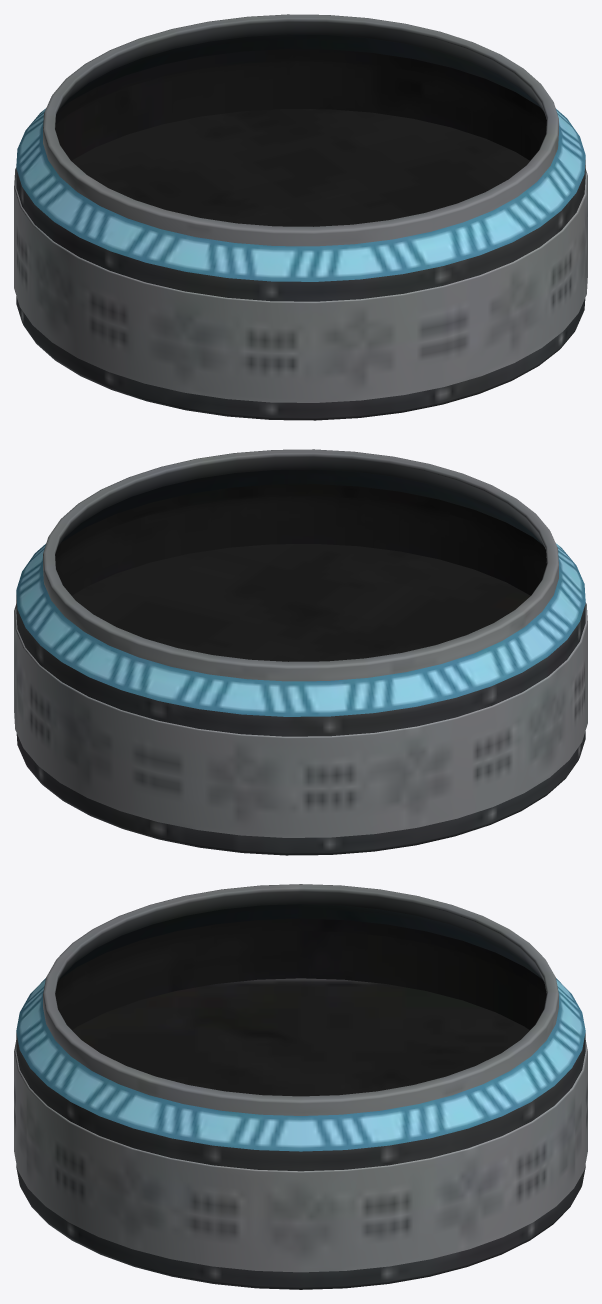
The model's file is SM_PalCoolingFeedBox_068e31.glb.
3 views of the same model, one above another, from view 1: azimuth 30°, elevation 25°; view 2: azimuth 150°, elevation 25°; view 3: azimuth 270°, elevation 25° (orthographic).
Bounding box in the file's own units: 1.28 × 0.4413 × 1.28.
Materials: 1 (1 with a texture image).
